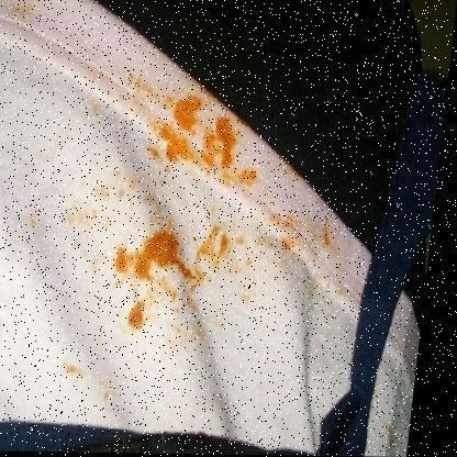kimchi: (110, 213, 234, 331), (134, 120, 243, 183), (252, 218, 342, 259), (122, 92, 207, 118), (65, 178, 123, 209), (301, 269, 347, 302), (236, 274, 265, 319), (60, 357, 100, 382), (114, 73, 164, 92), (9, 1, 41, 19), (243, 164, 260, 189), (91, 96, 107, 122), (381, 425, 398, 448), (25, 210, 42, 227)
